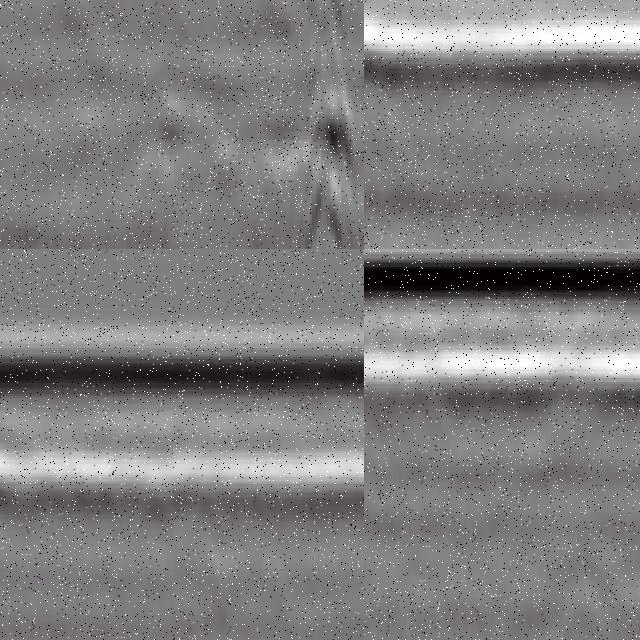crack: (308, 1, 354, 250)
